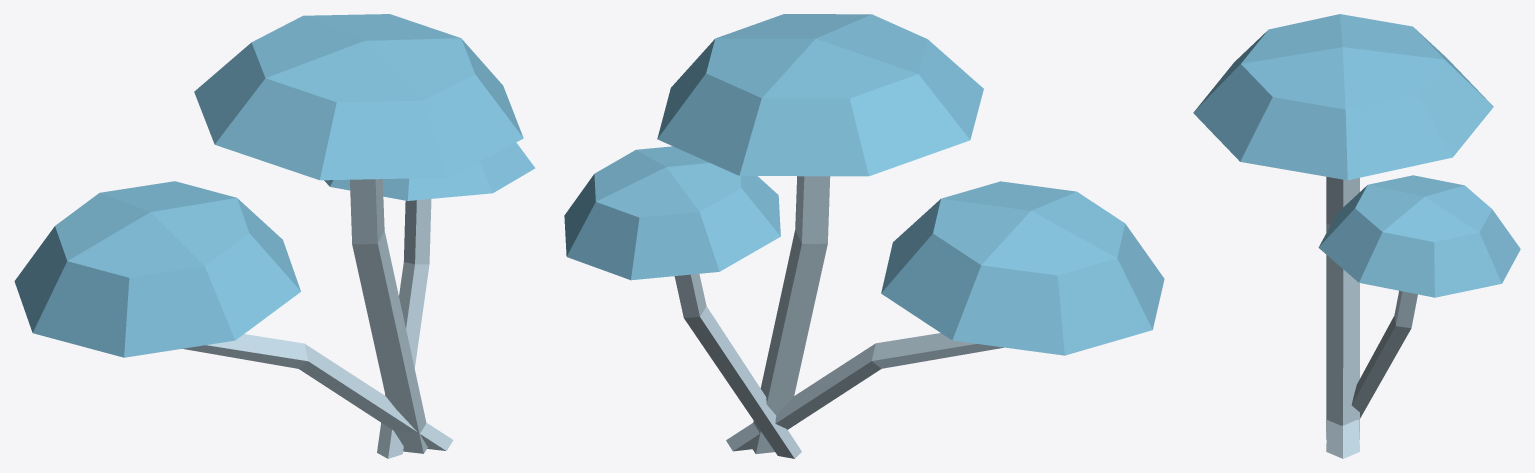
File: Mushroom_a_05.fbx
3 renders of one model, left to right at view 1: azimuth 30°, elevation 25°; view 2: azimuth 150°, elevation 25°; view 3: azimuth 270°, elevation 25°, orthographic. The views are drawn at different scales.
Parts seen in each view (by area): view 1: Mushroom_a_05; view 2: Mushroom_a_05; view 3: Mushroom_a_05.
Boxes of the visible parts, x1,y1,x2,y2 form: Mushroom_a_05: [14, 14, 535, 458]; Mushroom_a_05: [564, 14, 1164, 458]; Mushroom_a_05: [1193, 14, 1520, 458].
Bounding box in the file's own units: 0.4653 × 0.3522 × 0.2802.
